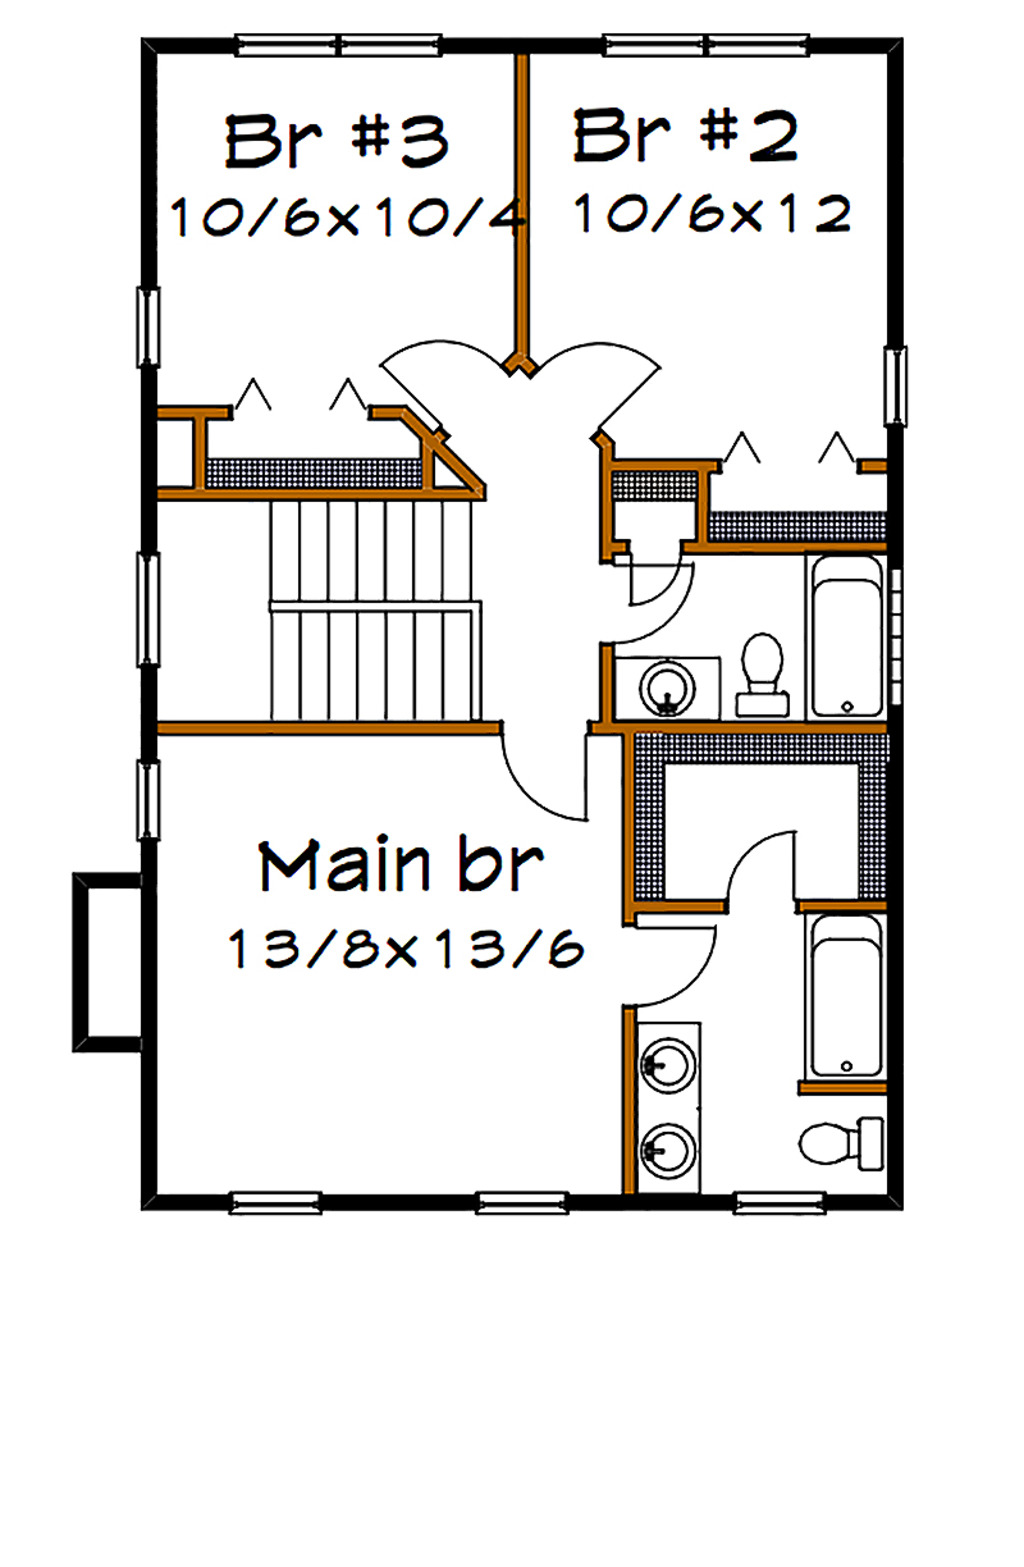door: (533, 307, 673, 435), (379, 312, 511, 427), (496, 719, 594, 824), (709, 831, 813, 912), (623, 921, 713, 1009), (611, 559, 701, 647), (619, 538, 683, 614)
large_sink: (787, 1102, 887, 1196), (718, 634, 801, 712)
small_sink: (629, 1016, 709, 1189), (621, 650, 725, 719)
stairs: (239, 493, 485, 733)
tub: (799, 555, 889, 715), (794, 914, 882, 1076)
window: (242, 27, 439, 64), (606, 31, 821, 57), (125, 274, 168, 369), (133, 550, 165, 657), (880, 347, 918, 427), (734, 1185, 827, 1216), (227, 1183, 320, 1214), (134, 750, 163, 844), (461, 1188, 565, 1214)
